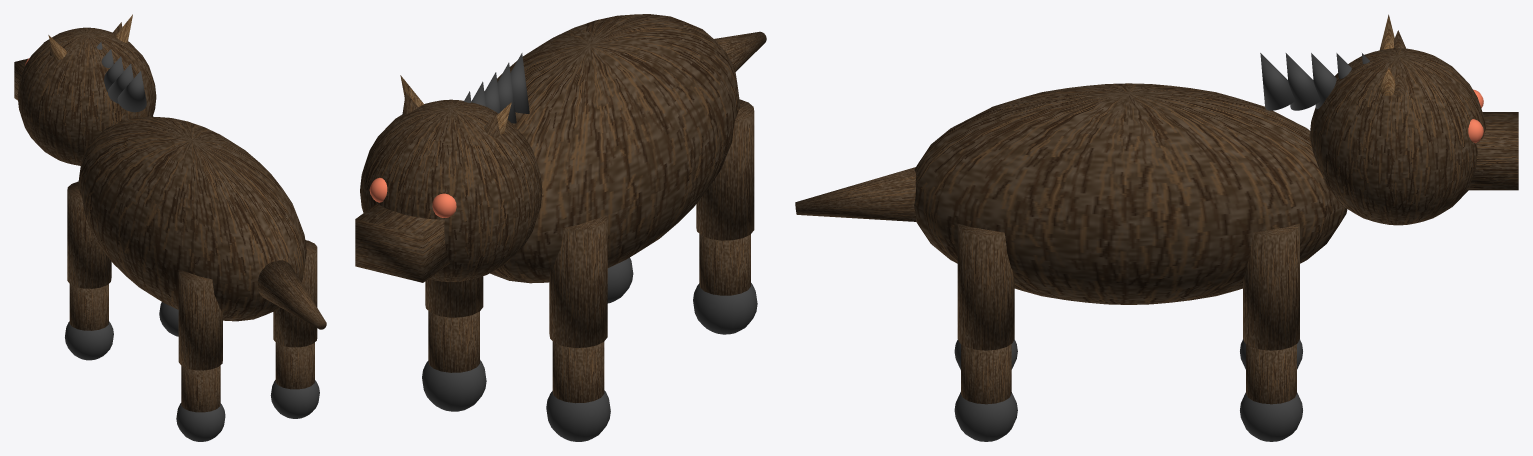
The model's file is qilin-corrupted.glb.
The picture shows the model from 3 angles, left to right: view 1: azimuth 30°, elevation 25°; view 2: azimuth 150°, elevation 25°; view 3: azimuth 270°, elevation 25°; orthographic projection. The views are drawn at different scales.
Parts seen in each view (by area): view 1: Body, Head, LegUpper, LegUpper.001, Tail, LegUpper.002, LegLower, LegLower.002, LegLower.001, Paw.001, Paw, Paw.002 (+4 smaller); view 2: Body, Head, LegUpper.001, Snout, LegUpper, LegLower.001, LegLower.003, LegLower, Paw.003, Paw, Paw.001, LegUpper.003 (+6 smaller); view 3: Body, Head, LegUpper.002, LegUpper.003, Tail, Snout, LegLower.002, LegLower.003, Paw.002, Paw.003, Mane, Mane.001 (+1 smaller).
Boxes of the visible parts, x1,y1,x2,y2 form: Body: (78,116,306,321); Head: (17,27,156,165); LegUpper: (178,269,222,370); LegUpper.001: (67,181,111,288); Tail: (258,260,326,329); LegUpper.002: (273,240,317,347); LegLower: (181,365,220,412); LegLower.002: (275,342,314,389); LegLower.001: (69,284,108,330); Paw.001: (65,321,113,360); Paw: (176,403,225,441); Paw.002: (270,380,319,418); Body: (484,14,740,283); Head: (360,99,542,281); LegUpper.001: (549,215,607,347); Snout: (355,203,449,282); LegUpper: (696,99,754,240); LegLower.001: (552,341,604,403); LegLower.003: (428,311,479,372); LegLower: (699,234,750,295); Paw.003: (422,360,486,411); Paw: (693,283,757,334); Paw.001: (546,390,610,441); LegUpper.003: (425,276,483,317); Body: (914,83,1347,304); Head: (1309,48,1485,225); LegUpper.002: (957,223,1014,350); LegUpper.003: (1243,223,1299,350); Tail: (795,167,915,221); Snout: (1466,112,1518,190); LegLower.002: (961,344,1011,404); LegLower.003: (1246,344,1296,404); Paw.002: (954,392,1017,441); Paw.003: (1240,392,1302,441); Mane: (1260,53,1295,110); Mane.001: (1285,53,1320,110).
Size of the model in its own units: 0.5327 by 0.9781 by 1.74.
4 materials, 2 textured.
